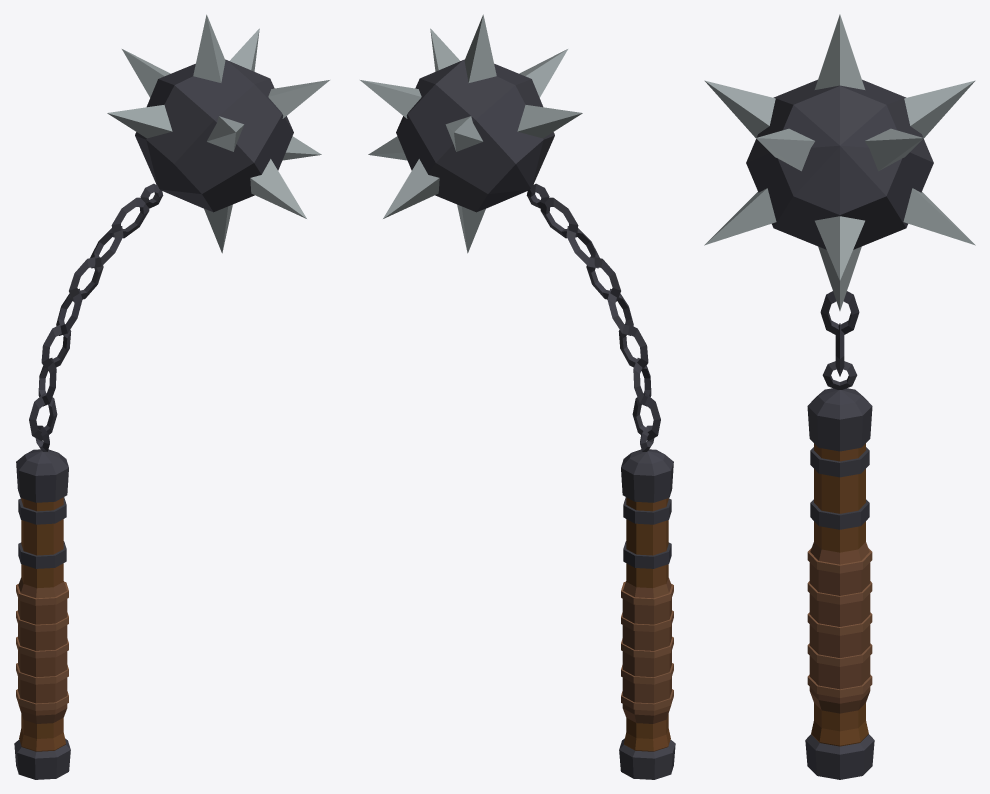
Rendered from weapon_flail_morningstar.glb.
The picture shows the model from 3 angles, left to right: view 1: azimuth 30°, elevation 25°; view 2: azimuth 150°, elevation 25°; view 3: azimuth 270°, elevation 25°; orthographic projection. The views are drawn at different scales.
Visible parts, largest first — view 1: weapon_flail_morningstar_ball, weapon_flail_morningstar, weapon_flail_morningstar_chain, weapon_flail_morningstar_link; view 2: weapon_flail_morningstar_ball, weapon_flail_morningstar, weapon_flail_morningstar_chain, weapon_flail_morningstar_link; view 3: weapon_flail_morningstar_ball, weapon_flail_morningstar, weapon_flail_morningstar_chain.
Part boxes in pixels (x1,y1,x2,y2): weapon_flail_morningstar_ball: (107,14,329,253); weapon_flail_morningstar: (14,425,70,779); weapon_flail_morningstar_chain: (38,197,149,406); weapon_flail_morningstar_link: (29,393,57,440); weapon_flail_morningstar_ball: (360,14,582,253); weapon_flail_morningstar: (619,425,675,779); weapon_flail_morningstar_chain: (540,197,651,406); weapon_flail_morningstar_link: (632,393,660,440); weapon_flail_morningstar_ball: (704,14,975,310); weapon_flail_morningstar: (805,361,874,779); weapon_flail_morningstar_chain: (820,291,859,334).
Bounding box in the file's own units: 0.5772 × 1.3 × 0.376.
